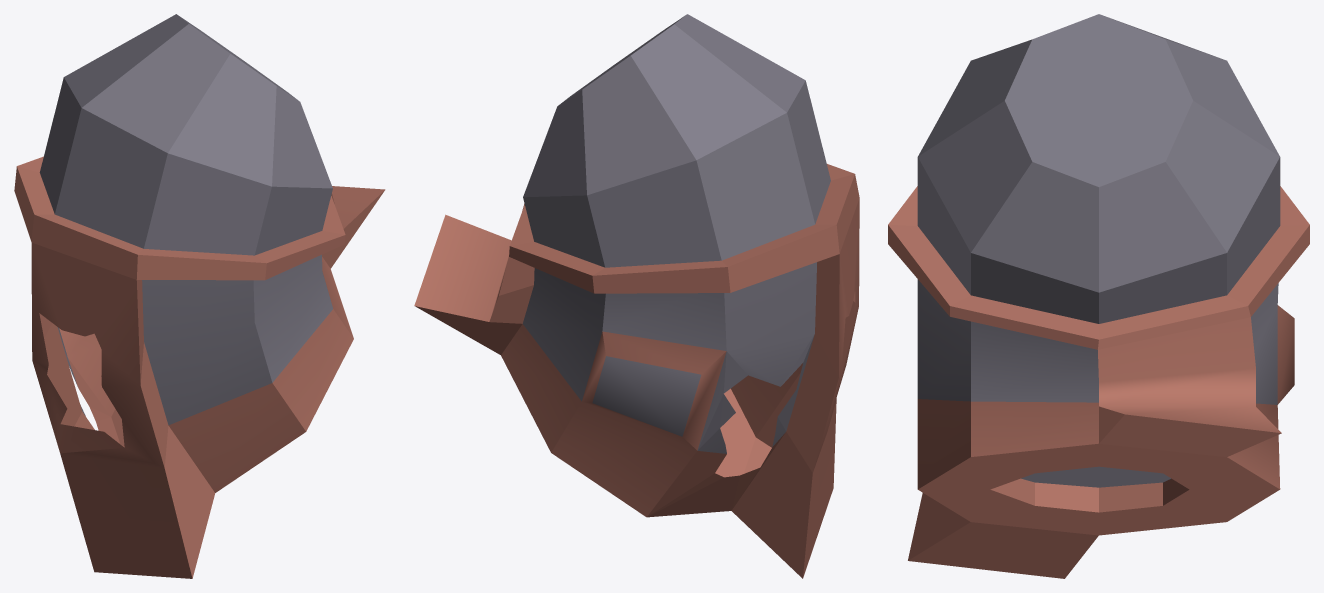
Rendered from BigChunk.fbx.
3 renders of one model, left to right at view 1: azimuth 30°, elevation 25°; view 2: azimuth 150°, elevation 25°; view 3: azimuth 270°, elevation 25°, orthographic. The views are drawn at different scales.
Visible parts, largest first — view 1: pCylinder4; view 2: pCylinder4; view 3: pCylinder4.
Boxes of the visible parts, left/top/right/bottom form: pCylinder4: left=14, top=14, right=385, bottom=578; pCylinder4: left=414, top=14, right=859, bottom=578; pCylinder4: left=888, top=14, right=1309, bottom=578.
Bounding box in the file's own units: 210 × 281 × 170.
